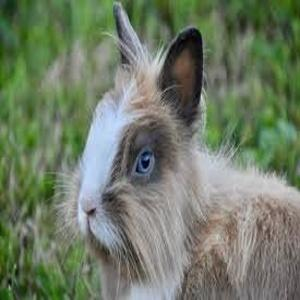rabbit: (57, 3, 300, 300)
